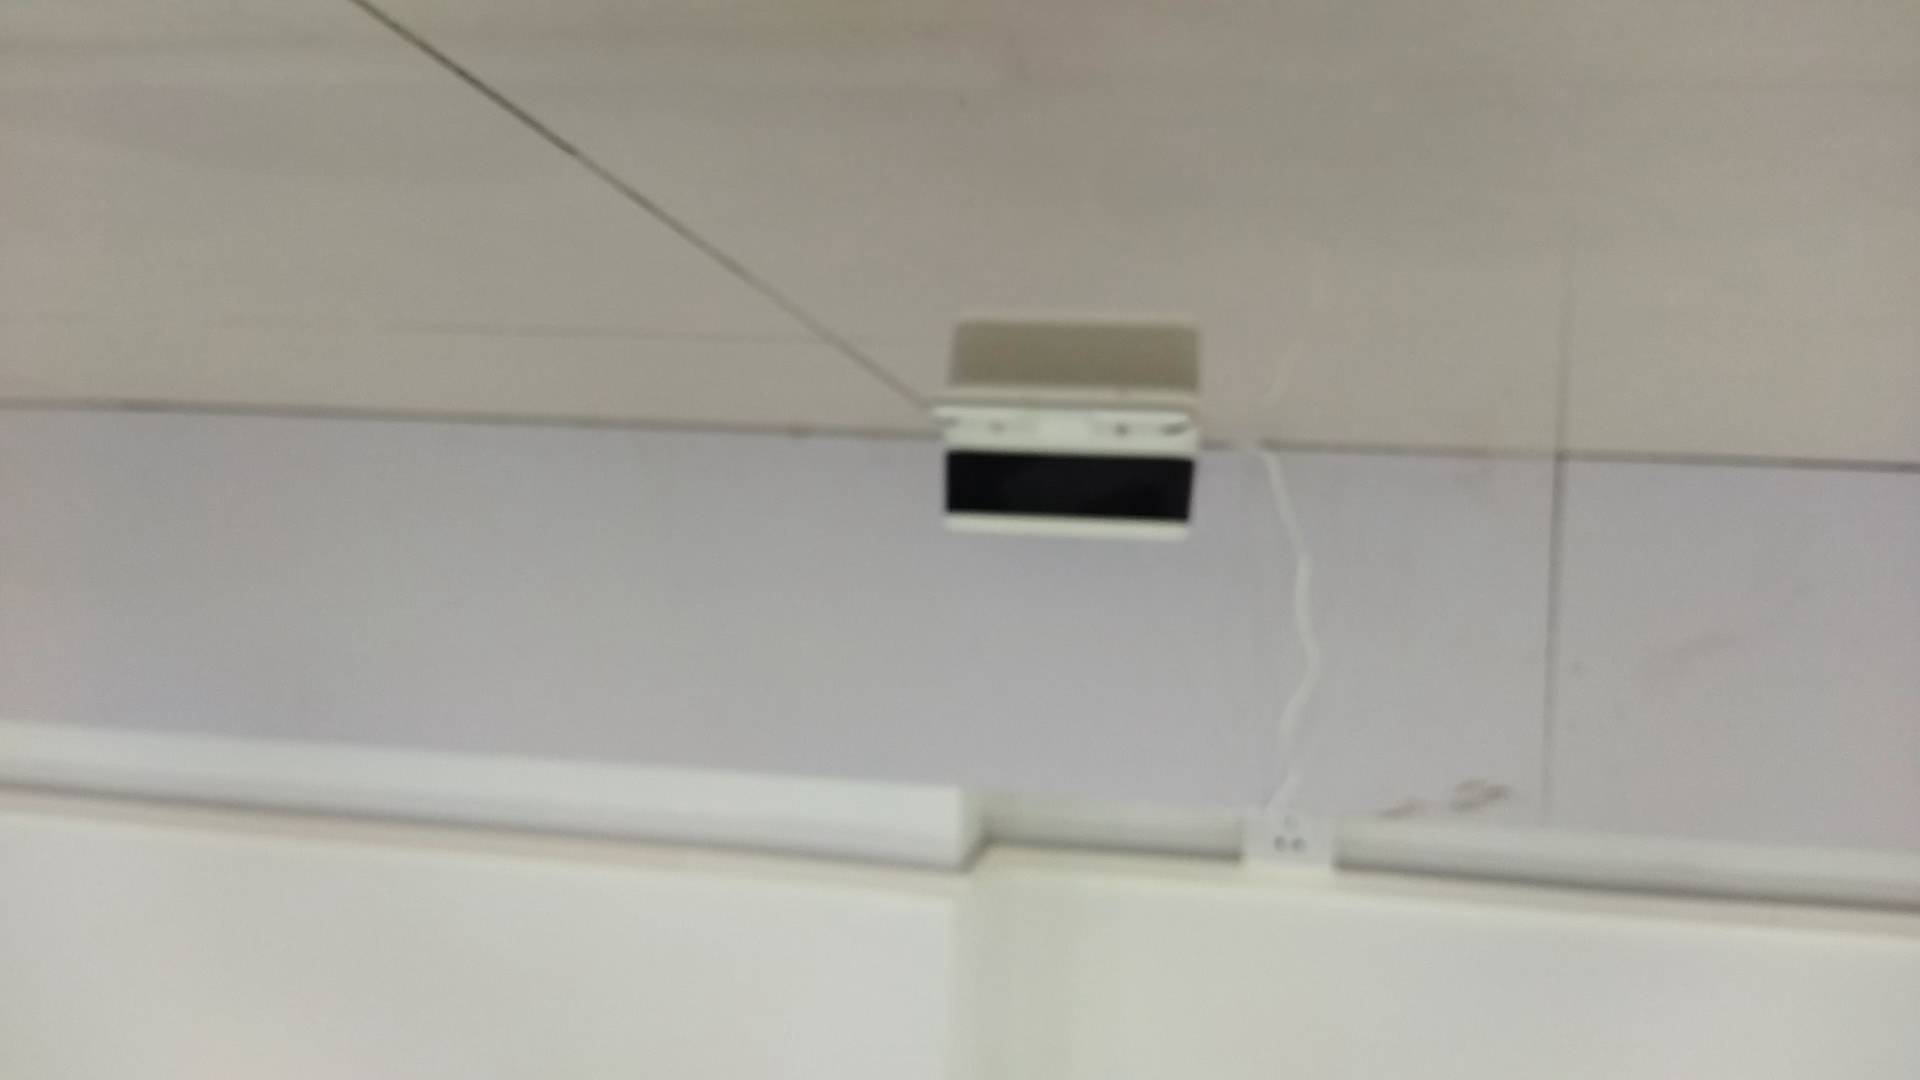recharge seat: (923, 389, 1208, 546)
